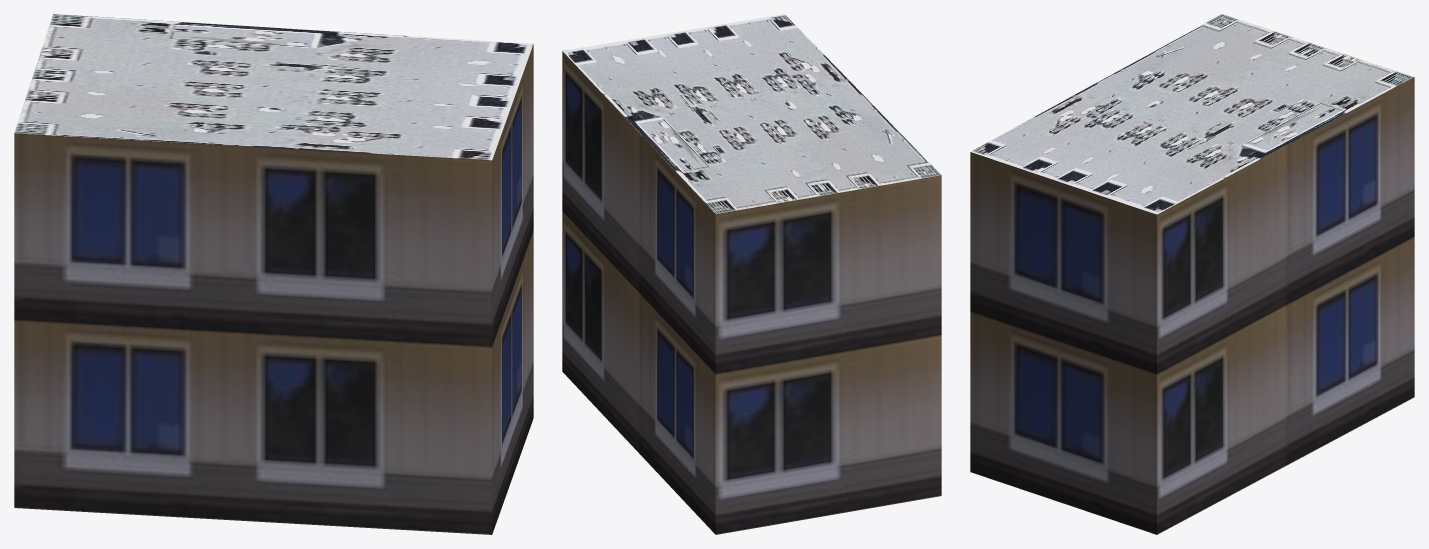
File: ResTex__328.fbx
3 renders of one model, left to right at view 1: azimuth 30°, elevation 25°; view 2: azimuth 150°, elevation 25°; view 3: azimuth 270°, elevation 25°, orthographic. The views are drawn at different scales.
Visible parts, largest first — view 1: CityEngineMaterial_5_m, CityEngineMaterial_4_m; view 2: CityEngineMaterial_5_m, CityEngineMaterial_4_m; view 3: CityEngineMaterial_5_m, CityEngineMaterial_4_m.
Boxes of the visible parts, <box> form: CityEngineMaterial_5_m: <box>14,44,533,534</box>; CityEngineMaterial_4_m: <box>14,14,533,160</box>; CityEngineMaterial_5_m: <box>562,51,941,534</box>; CityEngineMaterial_4_m: <box>562,14,941,213</box>; CityEngineMaterial_5_m: <box>970,77,1414,534</box>; CityEngineMaterial_4_m: <box>971,14,1413,214</box>.
Size of the model in its own units: 8.07 by 6 by 7.54.
2 materials, 2 textured.
